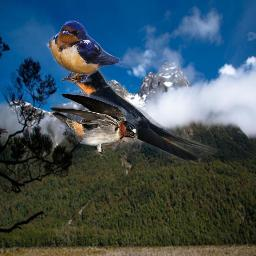Swallow: (63, 63, 221, 164), (50, 93, 138, 159), (46, 20, 131, 85)
